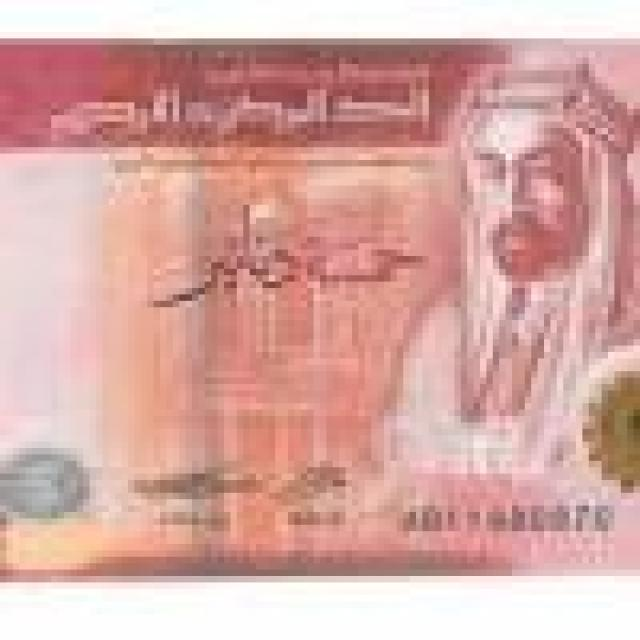5-dinar: (0, 36, 640, 582)
